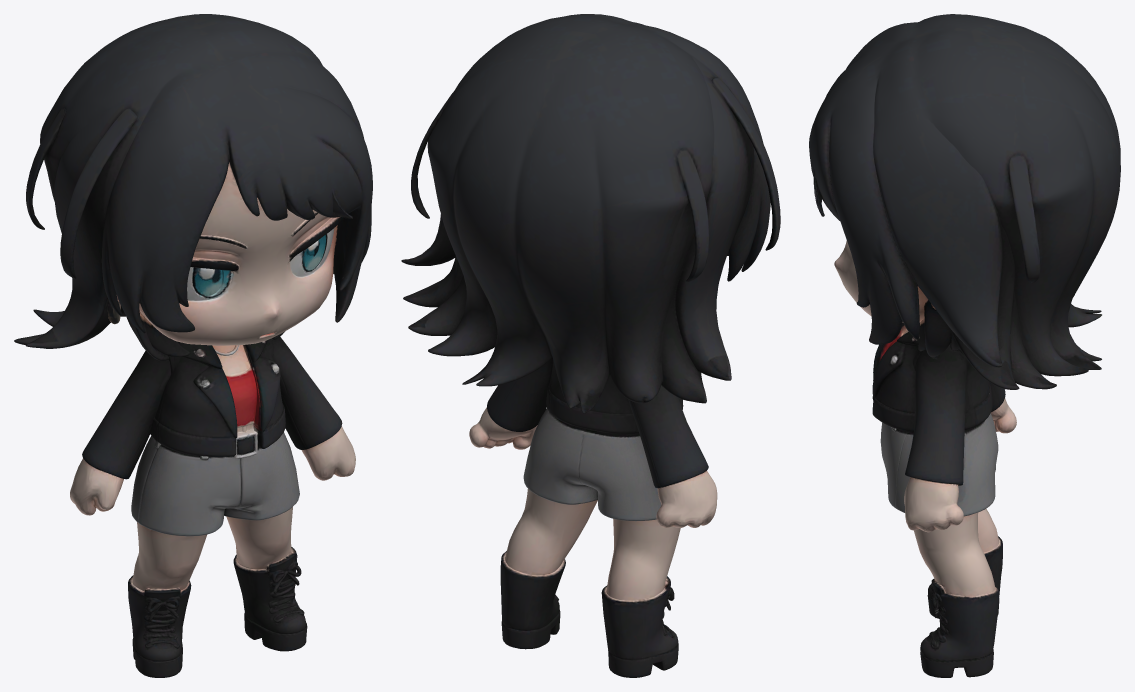
The model's file is Umiri.glb.
3 renders of one model, left to right at view 1: azimuth 30°, elevation 25°; view 2: azimuth 150°, elevation 25°; view 3: azimuth 270°, elevation 25°, orthographic. The views are drawn at different scales.
Parts seen in each view (by area): view 1: Umiri2; view 2: Umiri2; view 3: Umiri2.
Boxes of the visible parts, x1,y1,x2,y2 form: Umiri2: (14,14,372,677); Umiri2: (401,14,780,677); Umiri2: (809,14,1120,677).
Bounding box in the file's own units: 0.5557 × 0.9796 × 0.4568.
1 material, 1 textured.
